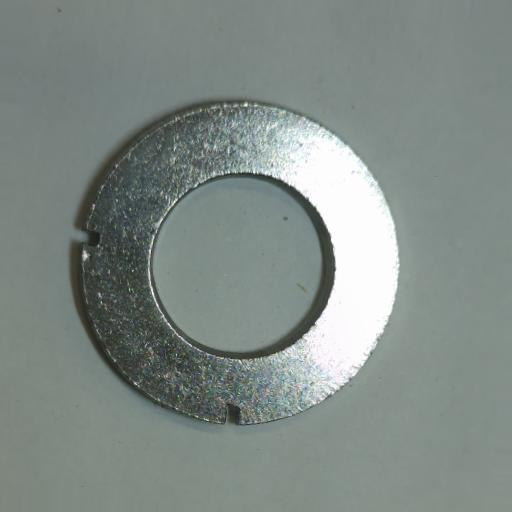burr: (224, 402, 244, 426), (80, 228, 102, 248)
